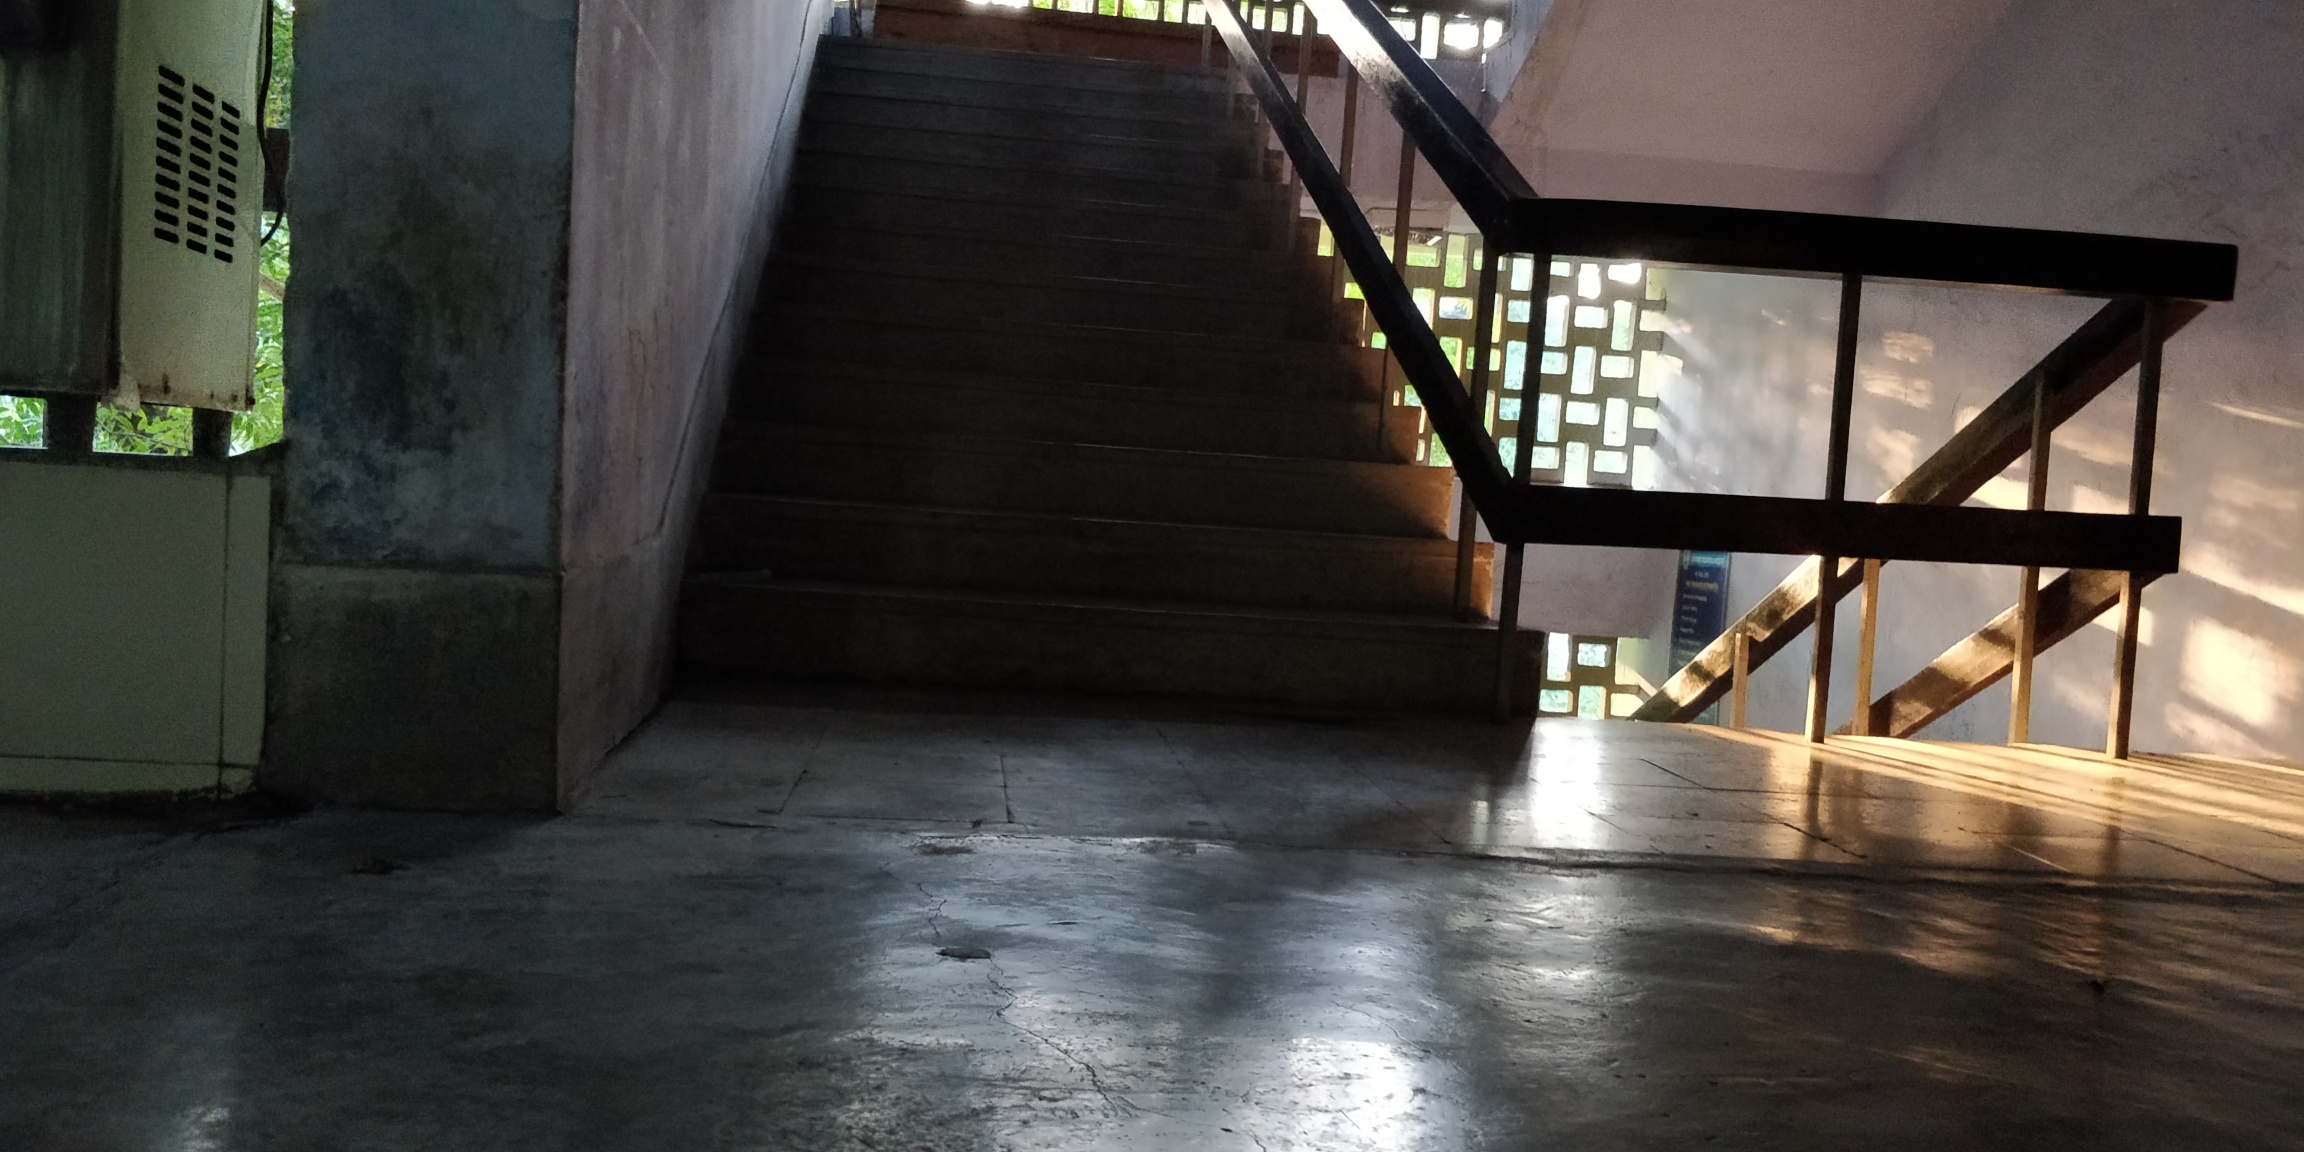stairs_up: (723, 34, 1502, 767)
